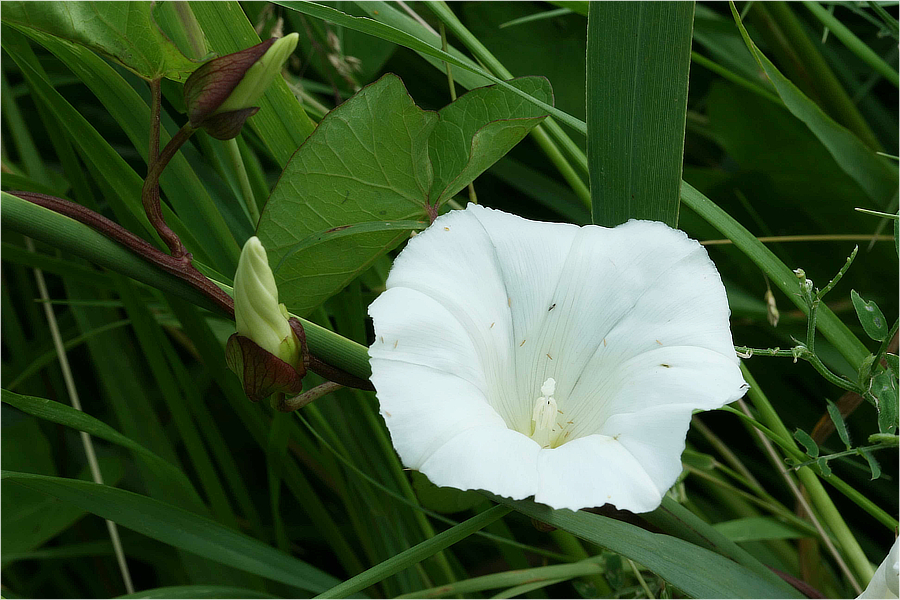haagwinde: (146, 27, 769, 531)
